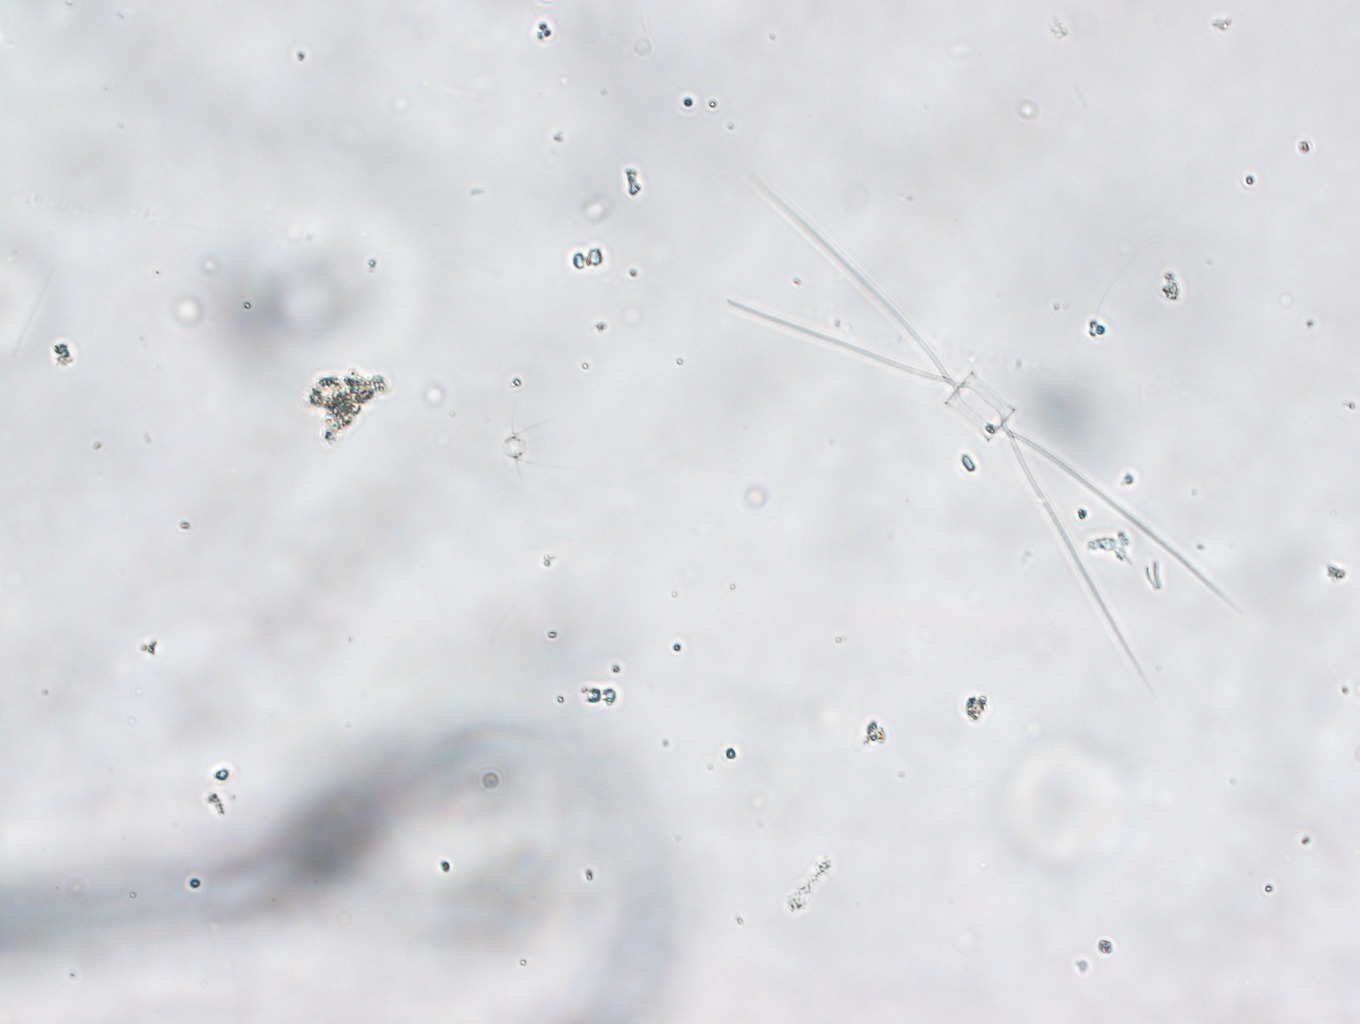chaetoceros: (722, 160, 1235, 685)
